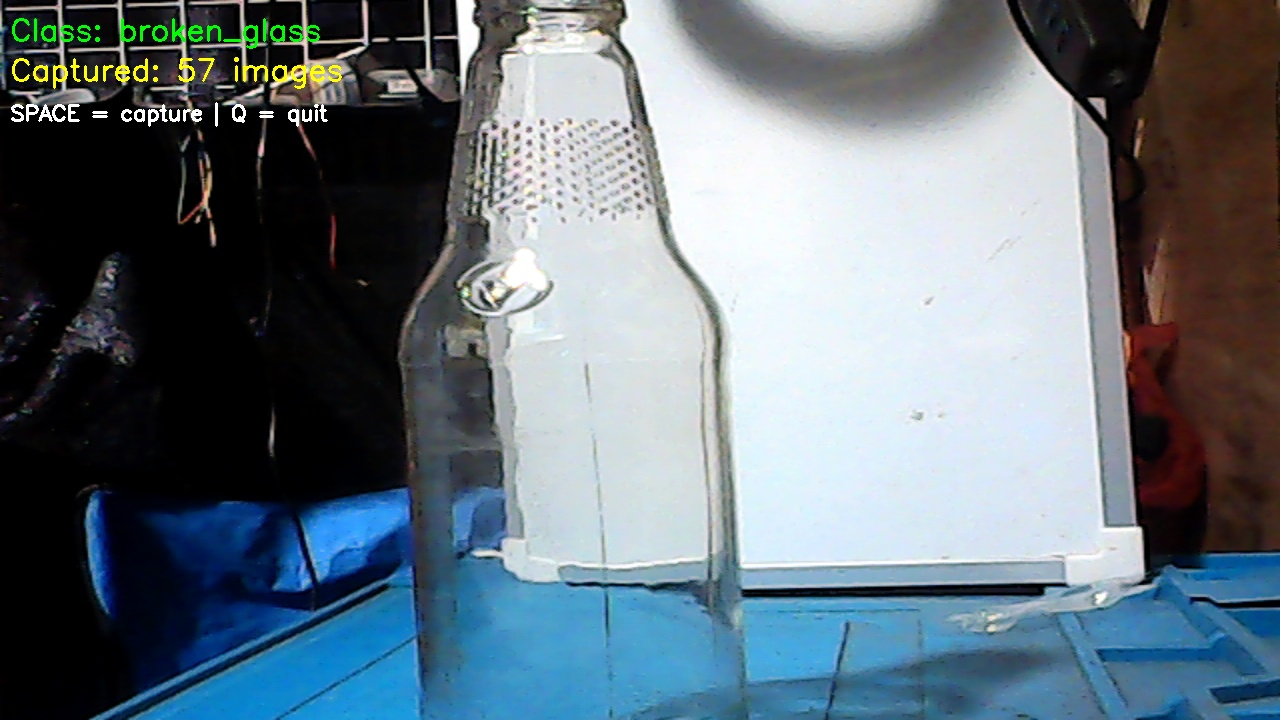broken_glass: (413, 0, 750, 708)
